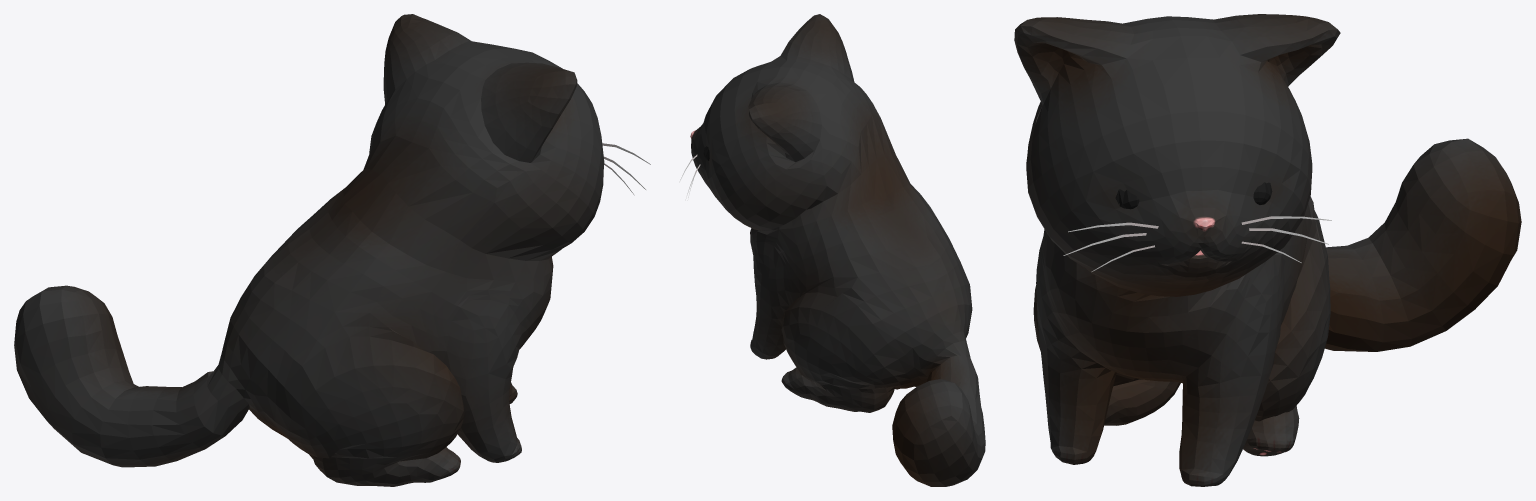
File: cat.obj
The picture shows the model from 3 angles, left to right: view 1: azimuth 30°, elevation 25°; view 2: azimuth 150°, elevation 25°; view 3: azimuth 270°, elevation 25°; orthographic projection. The views are drawn at different scales.
Parts seen in each view (by area): view 1: Object.1; view 2: Object.1; view 3: Object.1.
Part boxes in pixels (bbox=[...]): Object.1: bbox=[14, 14, 650, 486]; Object.1: bbox=[679, 14, 985, 486]; Object.1: bbox=[1014, 14, 1521, 486].
Bounding box in the file's own units: 718 × 609 × 554.
Materials: 1 (1 with a texture image).
